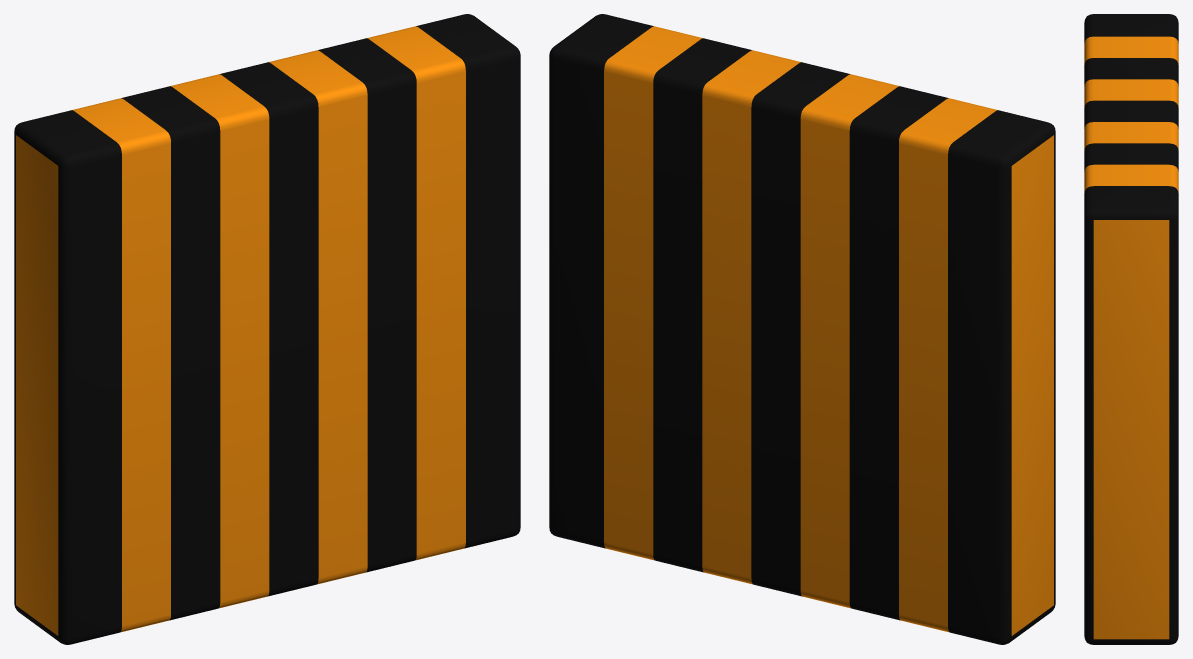
The model's file is Wall_01.fbx.
3 renders of one model, left to right at view 1: azimuth 30°, elevation 25°; view 2: azimuth 150°, elevation 25°; view 3: azimuth 270°, elevation 25°, orthographic. The views are drawn at different scales.
Parts seen in each view (by area): view 1: Wall_01; view 2: Wall_01; view 3: Wall_01.
Boxes of the visible parts, x1,y1,x2,y2 form: Wall_01: (14, 14, 520, 644); Wall_01: (549, 14, 1055, 644); Wall_01: (1084, 14, 1178, 644).
Size of the model in its own units: 5.02 by 1 by 5.1.
